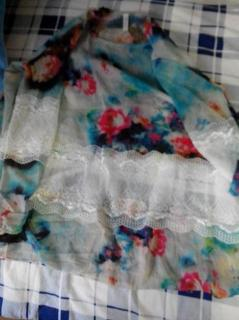long sleeve top: (0, 6, 239, 299)
